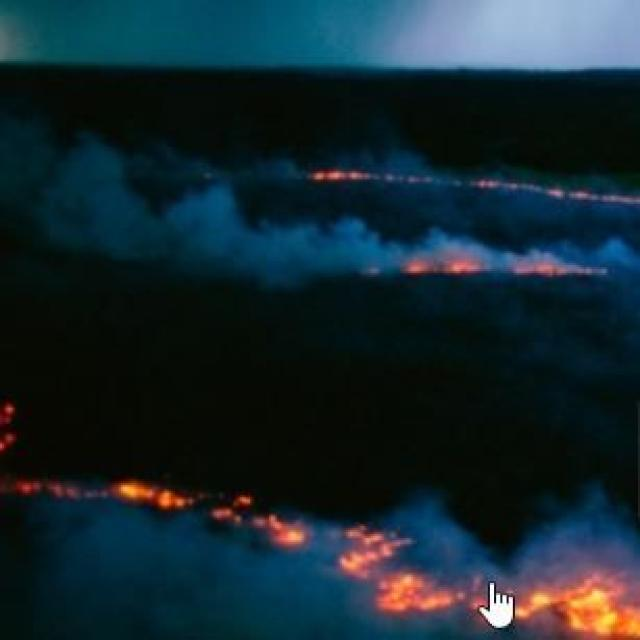Fire: (528, 577, 632, 640), (335, 519, 404, 583), (368, 569, 455, 617), (106, 476, 185, 511), (7, 473, 84, 506), (204, 486, 255, 525), (255, 515, 314, 544), (0, 395, 21, 465), (406, 260, 486, 274), (509, 264, 576, 277), (314, 167, 370, 182)
Smoke: (21, 167, 468, 311), (39, 524, 388, 640), (539, 492, 627, 575)
